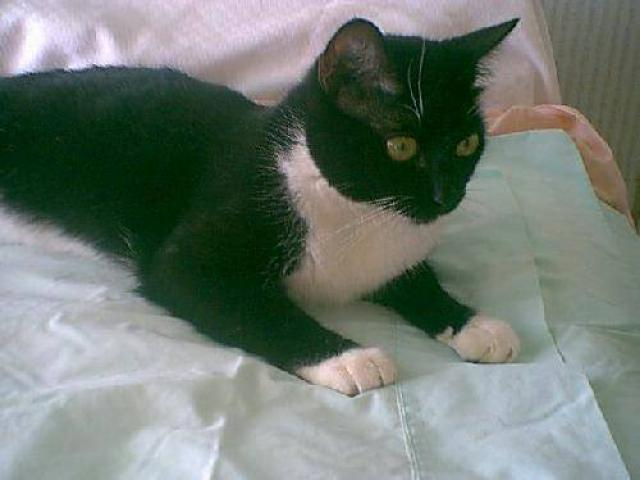cat: (6, 11, 536, 396)
